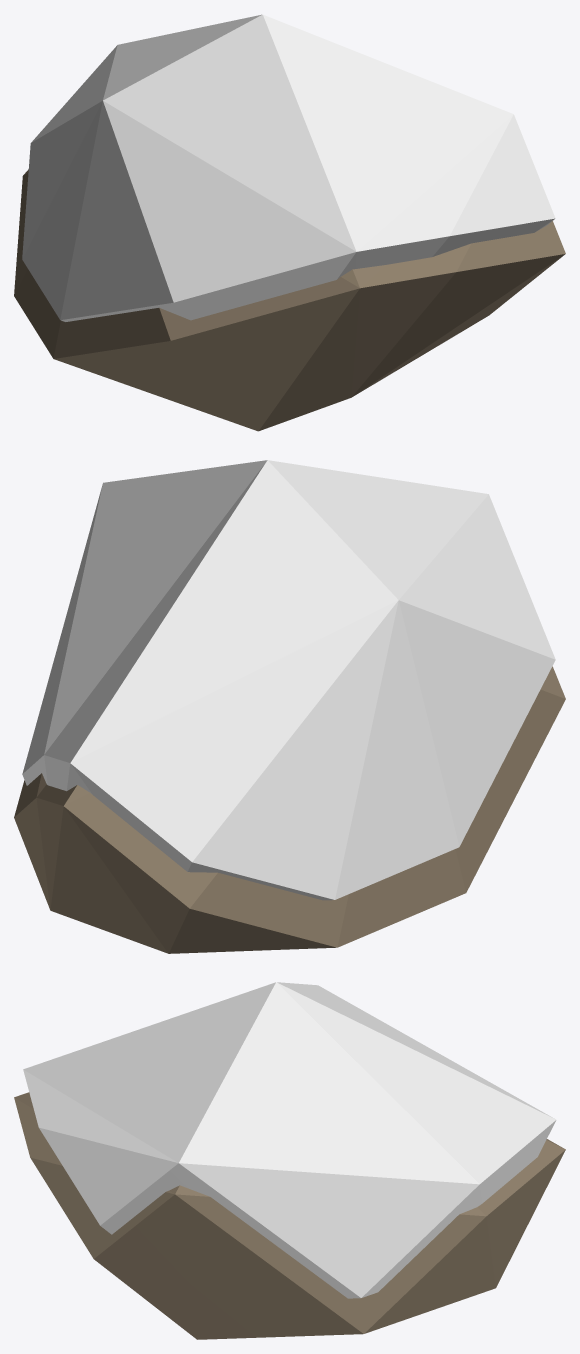
Rendered from Stone_2_snow_brown.fbx.
3 views of the same model, one above another, from view 1: azimuth 30°, elevation 25°; view 2: azimuth 150°, elevation 25°; view 3: azimuth 270°, elevation 25° (orthographic). The views are drawn at different scales.
Parts seen in each view (by area): view 1: Stone_2_snow_brown; view 2: Stone_2_snow_brown; view 3: Stone_2_snow_brown.
Boxes of the visible parts, box(x1,y1,x2,y2) form: Stone_2_snow_brown: box(14, 14, 565, 431); Stone_2_snow_brown: box(14, 460, 565, 953); Stone_2_snow_brown: box(14, 982, 565, 1339).
Size of the model in its own units: 27.27 by 20.73 by 37.23.
